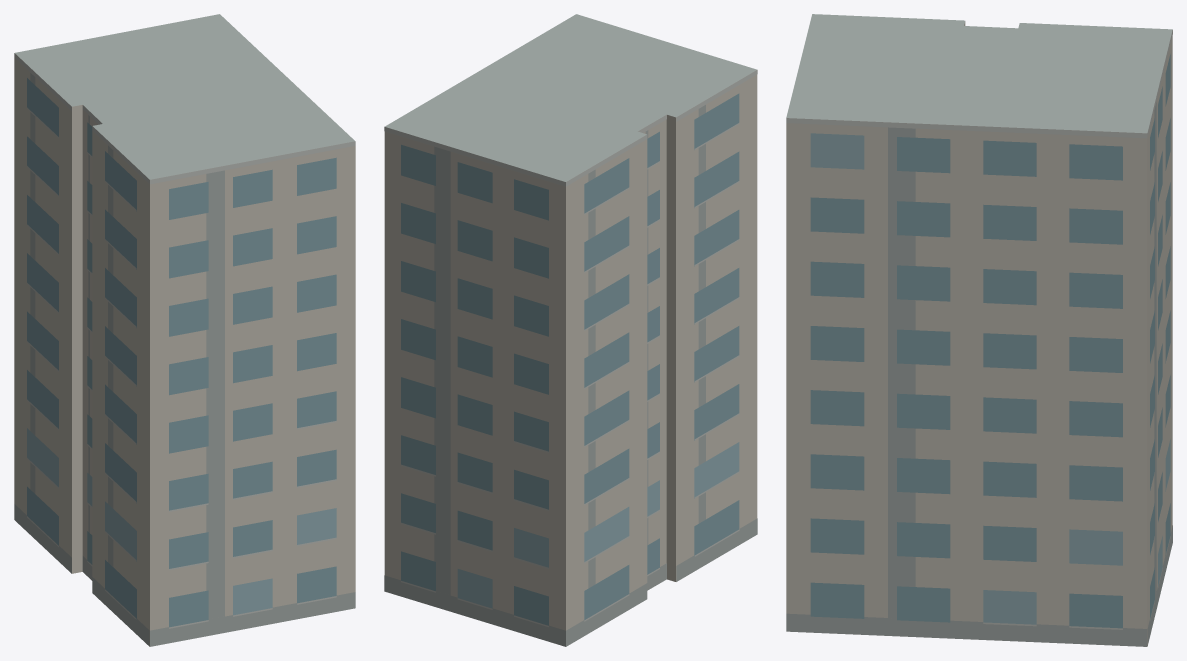
The model's file is survey-upis-33003481.glb.
The picture shows the model from 3 angles, left to right: view 1: azimuth 30°, elevation 25°; view 2: azimuth 150°, elevation 25°; view 3: azimuth 270°, elevation 25°; orthographic projection. The views are drawn at different scales.
Parts seen in each view (by area): view 1: survey-upis-33003481.tmp; view 2: survey-upis-33003481.tmp; view 3: survey-upis-33003481.tmp.
Boxes of the visible parts, x1,y1,x2,y2 form: survey-upis-33003481.tmp: [14, 14, 355, 646]; survey-upis-33003481.tmp: [384, 14, 757, 646]; survey-upis-33003481.tmp: [786, 14, 1172, 646].
Size of the model in its own units: 12.17 by 24.4 by 16.66.
